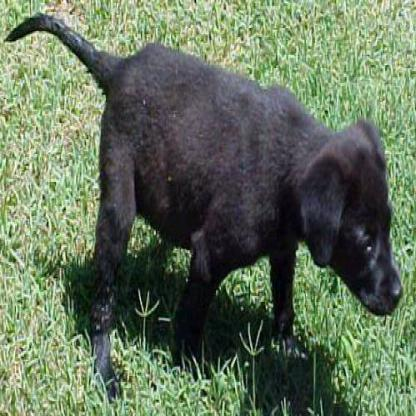dog: (90, 21, 403, 361)
